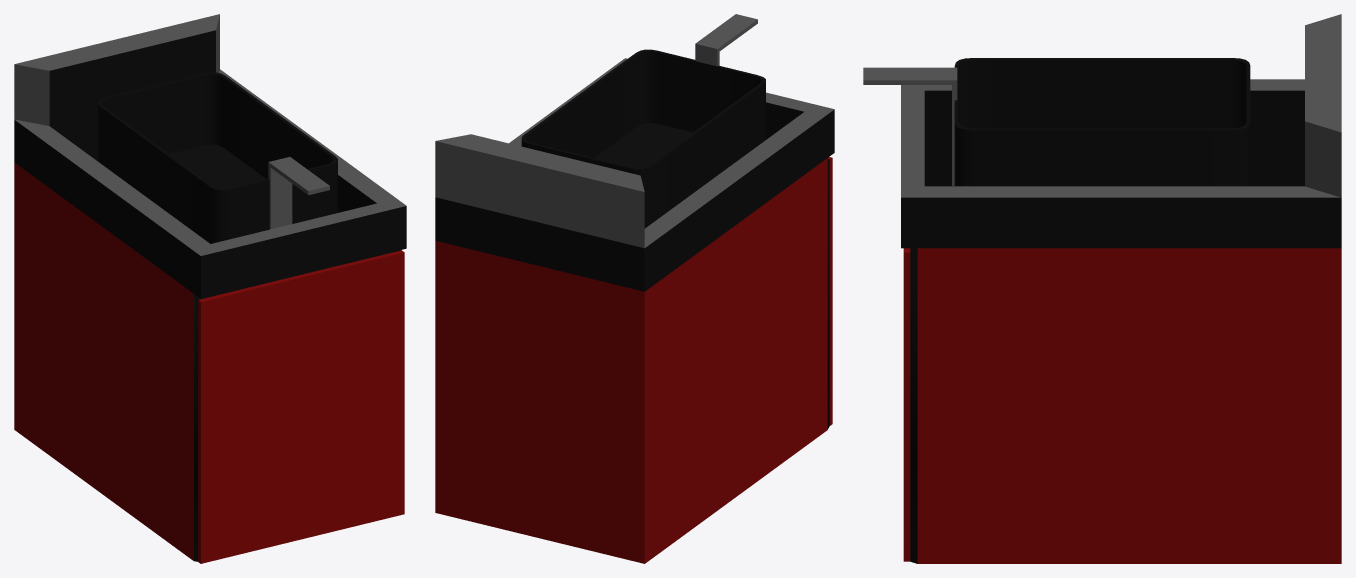
File: FryingStation.fbx
3 renders of one model, left to right at view 1: azimuth 30°, elevation 25°; view 2: azimuth 150°, elevation 25°; view 3: azimuth 270°, elevation 25°, orthographic. The views are drawn at different scales.
Parts seen in each view (by area): view 1: FryingStation_MainStructure, FryingStation_Basket; view 2: FryingStation_MainStructure, FryingStation_Basket; view 3: FryingStation_MainStructure, FryingStation_Basket.
Boxes of the visible parts, x1,y1,x2,y2 form: FryingStation_MainStructure: (14,14,406,563); FryingStation_Basket: (97,72,337,243); FryingStation_MainStructure: (435,58,834,563); FryingStation_Basket: (521,14,765,228); FryingStation_MainStructure: (901,14,1341,563); FryingStation_Basket: (863,58,1250,186).
Bounding box in the file's own units: 0.7764 × 1.32 × 1.32.
